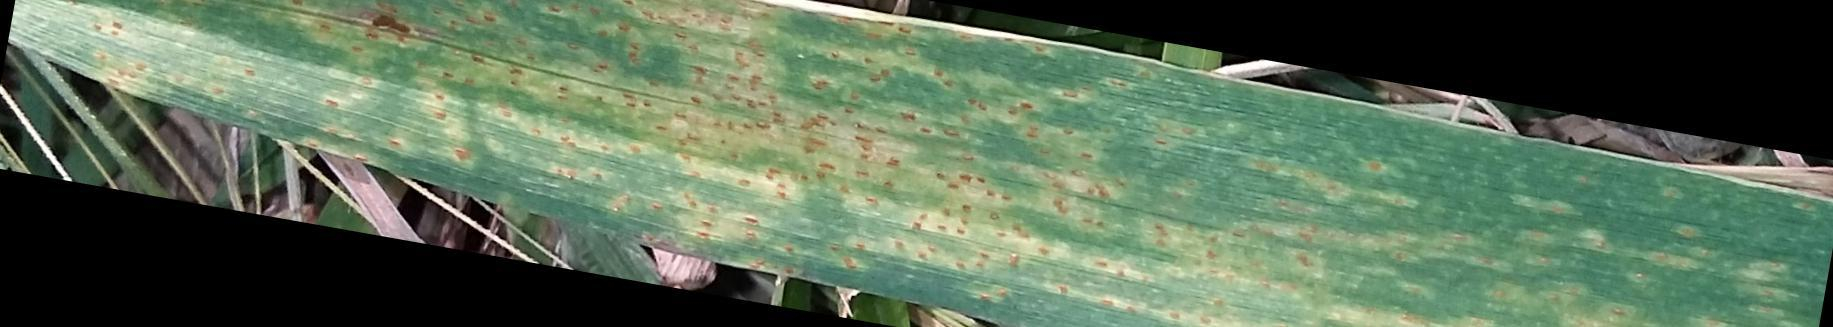Wheat: (996, 72, 1353, 298), (583, 22, 926, 250), (300, 0, 544, 171)
